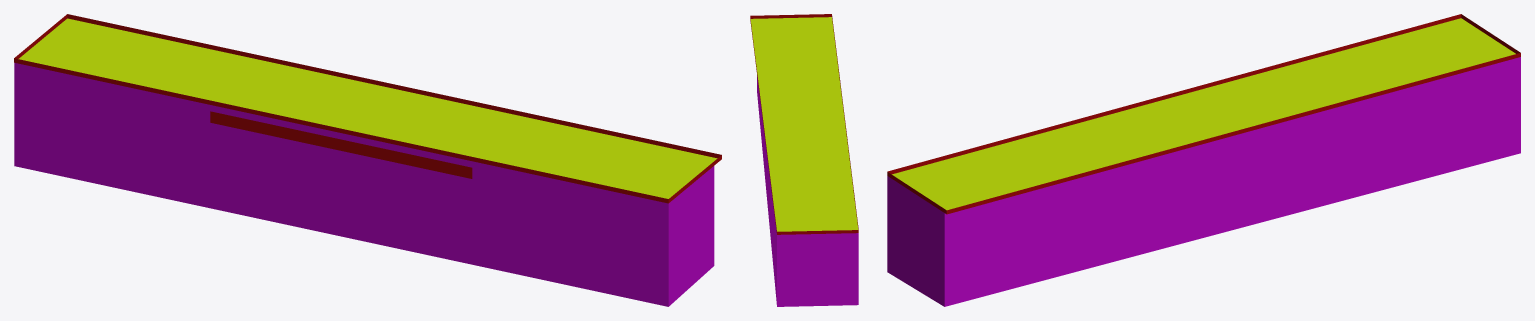
Rendered from scl_26.glb.
The picture shows the model from 3 angles, left to right: view 1: azimuth 30°, elevation 25°; view 2: azimuth 150°, elevation 25°; view 3: azimuth 270°, elevation 25°; orthographic projection. The views are drawn at different scales.
Visible parts, largest first — view 1: scl_26; view 2: scl_26; view 3: scl_26.
Boxes of the visible parts, <box> form: scl_26: <box>14,14,721,306</box>; scl_26: <box>750,14,858,306</box>; scl_26: <box>887,14,1520,306</box>.
Size of the model in its own units: 35.66 by 8.51 by 48.64.
